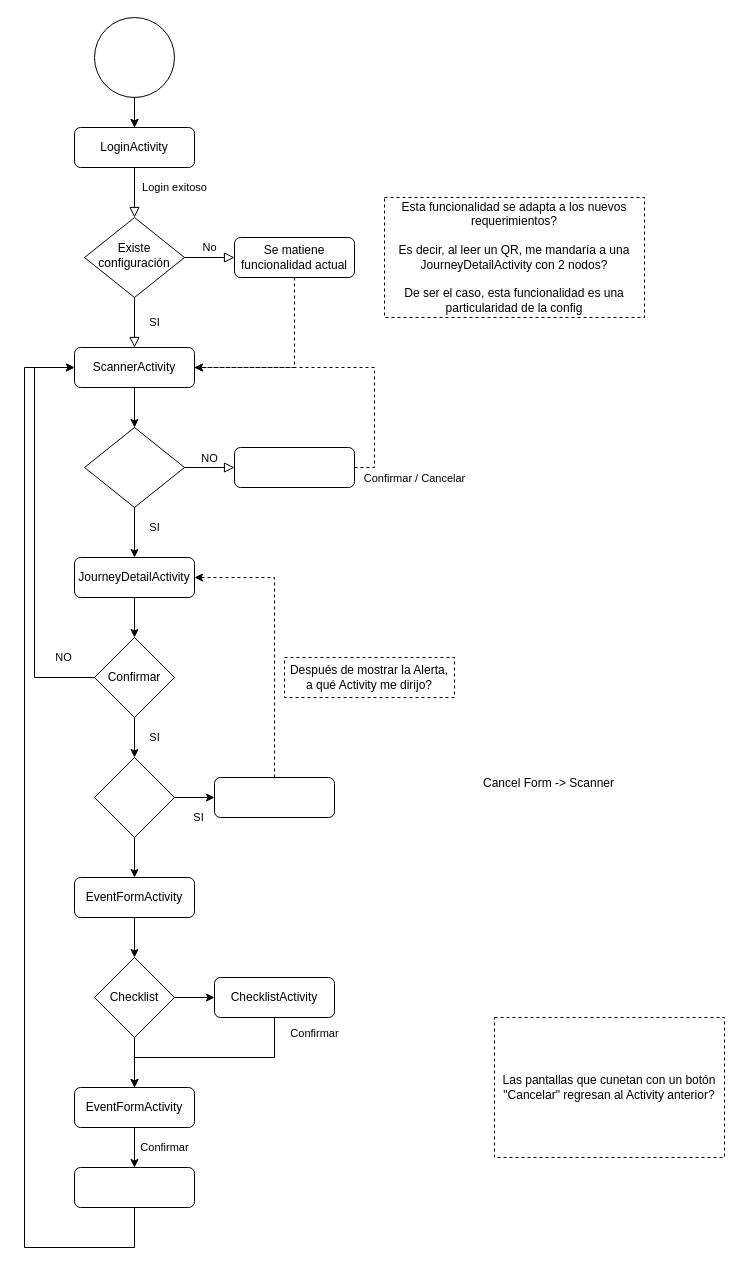
The diagram is 742 pixels wide and 1273 high, and some of its shapes have lost their labels. Here are the shapes that lost their labels. From the top down, the centre of each, then its label:
[134,57]: Start
[134,467]: Existe conductor asignado
[294,467]: AssignActivity
[134,797]: Req Evento previo
[274,797]: AlertActivity: Alerta
[134,1187]: AlertActivity: Exito
